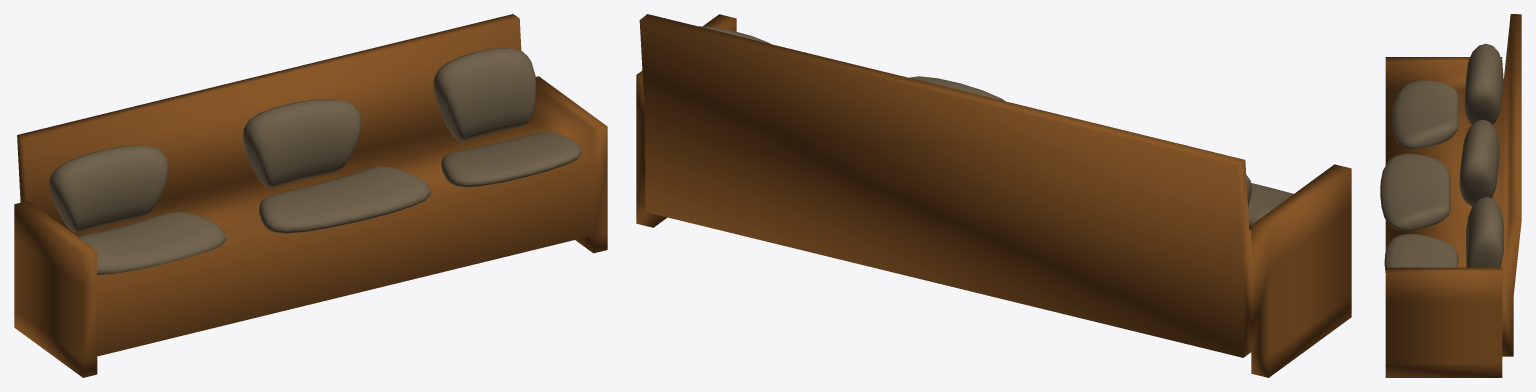
File: sillon 2.fbx
3 views of the same model, side by side, from view 1: azimuth 30°, elevation 25°; view 2: azimuth 150°, elevation 25°; view 3: azimuth 270°, elevation 25° (orthographic). The views are drawn at different scales.
Parts seen in each view (by area): view 1: sillon; view 2: sillon; view 3: sillon.
Boxes of the visible parts, box(x1,y1,x2,y2) form: sillon: box(14, 14, 607, 377); sillon: box(636, 14, 1351, 377); sillon: box(1380, 14, 1521, 377).
Bounding box in the file's own units: 71.33 × 23.51 × 19.7.
